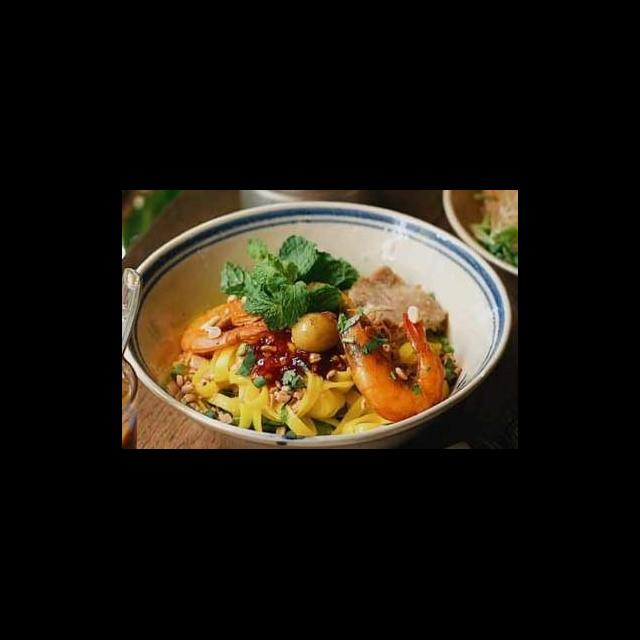mi: (189, 338, 397, 438)
thit heo: (343, 262, 450, 338)
tom: (334, 308, 447, 426), (177, 292, 278, 360)
trung: (287, 310, 343, 354)
